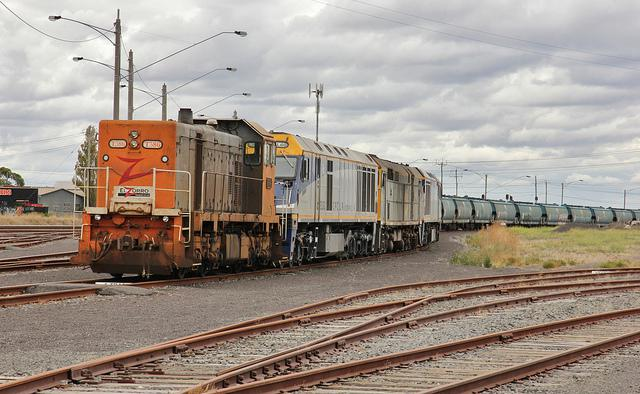Train: (65, 108, 640, 286)
